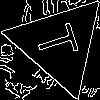T: (34, 19, 88, 62)
